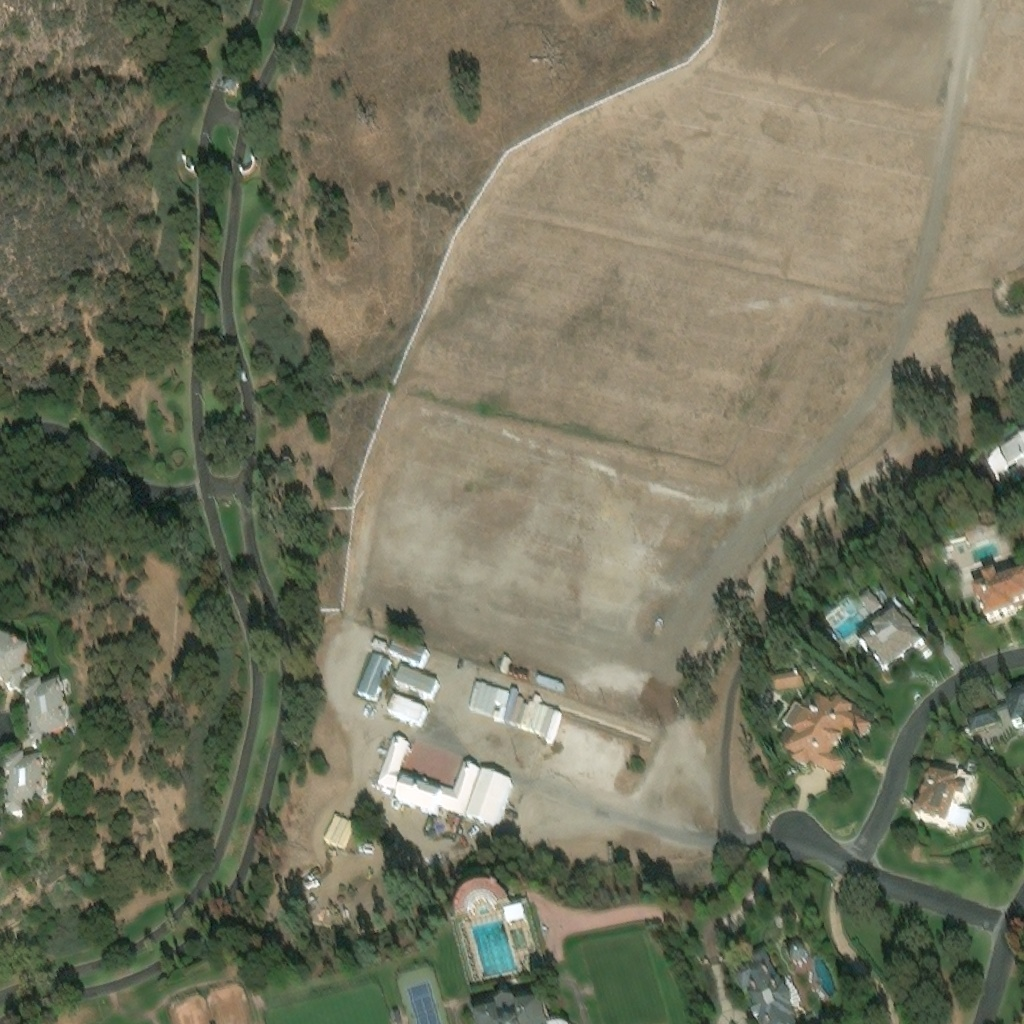0 no-damage: (774, 685, 869, 776), (375, 735, 480, 814), (725, 945, 796, 1023), (858, 589, 927, 667), (914, 769, 974, 834), (20, 676, 68, 746), (969, 560, 1023, 615), (463, 768, 510, 825), (457, 889, 513, 925), (0, 628, 32, 685), (355, 652, 391, 698), (985, 434, 1023, 475), (394, 663, 439, 697), (384, 691, 427, 725), (477, 1005, 550, 1023), (388, 635, 429, 665), (498, 653, 532, 679), (1005, 687, 1023, 730), (966, 708, 998, 731), (772, 668, 802, 689), (856, 585, 879, 608), (533, 671, 563, 688), (507, 912, 529, 933), (786, 940, 806, 961), (222, 78, 239, 95)
4 un-classified: (718, 580, 749, 622), (694, 628, 723, 670), (499, 792, 526, 823), (584, 722, 613, 750), (656, 699, 675, 722), (492, 687, 508, 705), (610, 731, 625, 748), (491, 704, 505, 719)
